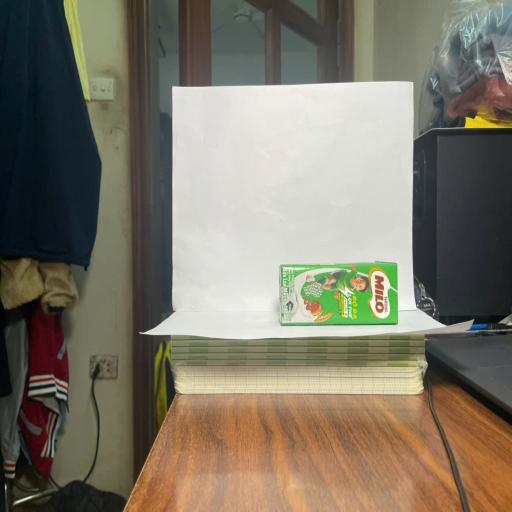milo: (279, 261, 398, 326)
